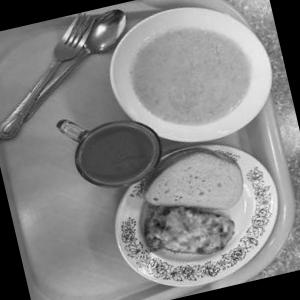bread: (132, 135, 253, 225)
cheese_sandwich: (131, 193, 242, 265)
coffee: (50, 95, 178, 216)
porridge: (114, 0, 267, 151)
